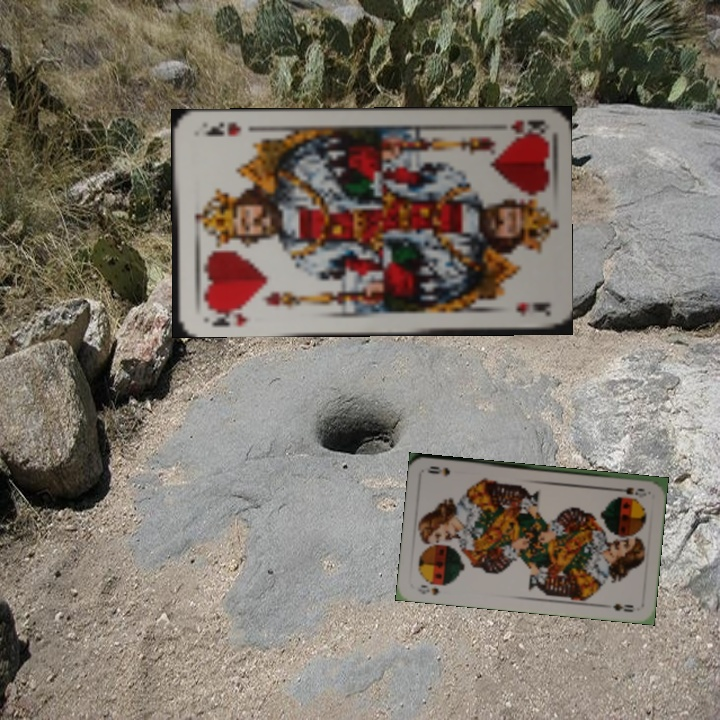HK: (203, 301, 250, 329), (506, 116, 545, 141)
SO: (610, 483, 649, 498), (414, 581, 442, 597)
